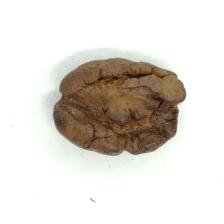NG: (55, 59, 185, 155)
